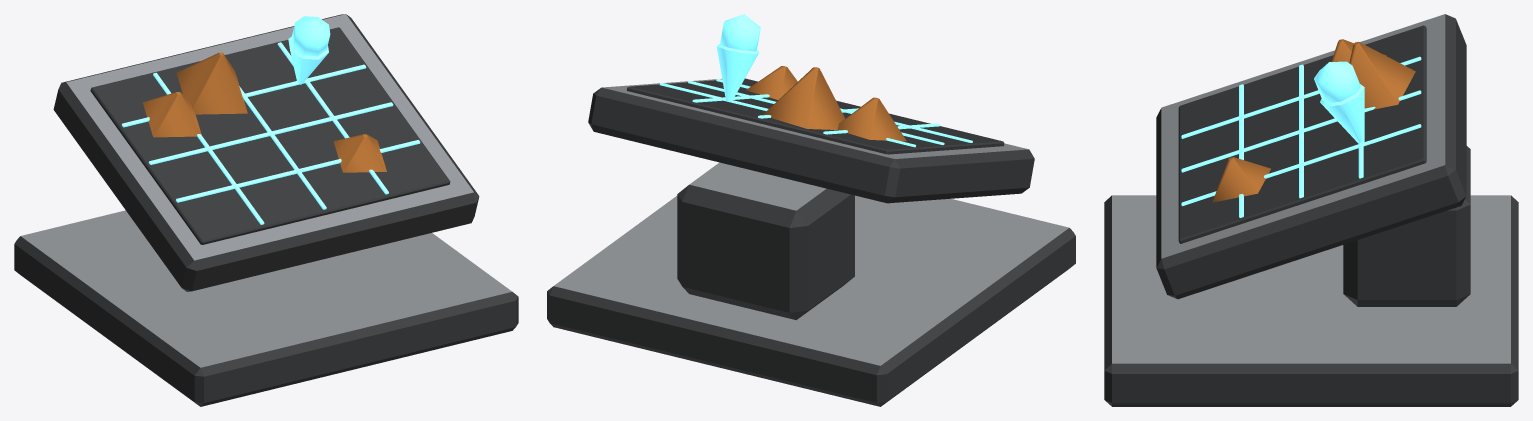
Rendered from R4X_Minimap_LOD1.fbx.
The picture shows the model from 3 angles, left to right: view 1: azimuth 30°, elevation 25°; view 2: azimuth 150°, elevation 25°; view 3: azimuth 270°, elevation 25°; orthographic projection. The views are drawn at different scales.
Visible parts, largest first — view 1: R4X_Minimap_LOD1; view 2: R4X_Minimap_LOD1; view 3: R4X_Minimap_LOD1.
Boxes of the visible parts, left/top/right/bottom form: R4X_Minimap_LOD1: left=14, top=14, right=518, bottom=406; R4X_Minimap_LOD1: left=547, top=14, right=1075, bottom=406; R4X_Minimap_LOD1: left=1104, top=14, right=1518, bottom=406.
Bounding box in the file's own units: 0.52 × 0.403 × 0.52.
